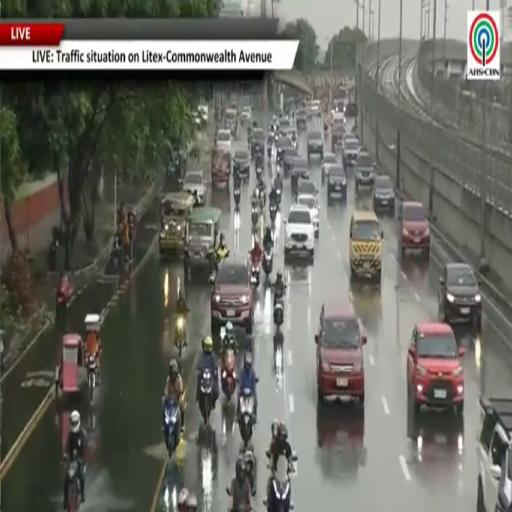car: (407, 323, 465, 417), (315, 302, 366, 405), (477, 397, 511, 511), (317, 404, 367, 476), (211, 259, 253, 334), (438, 263, 482, 331), (349, 211, 383, 284), (398, 201, 430, 258), (285, 205, 314, 261), (297, 190, 319, 237), (355, 151, 375, 193), (373, 175, 395, 213), (327, 164, 347, 204), (183, 171, 206, 205), (291, 157, 310, 195), (343, 135, 359, 168), (321, 153, 338, 183), (307, 131, 323, 161), (234, 150, 250, 178), (276, 136, 292, 163), (251, 127, 265, 157), (283, 148, 298, 175), (331, 123, 345, 151), (297, 178, 317, 197), (216, 130, 232, 153), (225, 108, 237, 136), (343, 132, 360, 149), (284, 127, 297, 148), (296, 108, 306, 131), (308, 100, 321, 116), (241, 106, 252, 124), (279, 117, 291, 133), (332, 111, 345, 125), (198, 105, 208, 123), (346, 102, 357, 117), (241, 111, 251, 125), (334, 99, 344, 111)
jeepney: (185, 207, 221, 277), (159, 191, 194, 255), (212, 149, 232, 186)
motorcycle: (264, 455, 293, 511), (164, 398, 181, 457), (239, 389, 254, 449), (221, 348, 236, 402), (199, 368, 213, 425), (67, 461, 82, 511), (244, 447, 256, 497), (86, 355, 97, 401), (175, 316, 185, 358), (111, 233, 122, 268), (273, 296, 284, 328), (263, 246, 273, 278), (257, 185, 266, 211), (251, 261, 260, 287), (252, 206, 259, 228), (270, 202, 277, 222), (234, 188, 241, 206), (276, 185, 282, 205), (255, 165, 262, 181), (267, 142, 272, 157), (292, 135, 297, 148)
tricycle: (56, 333, 85, 396), (84, 314, 100, 401)
